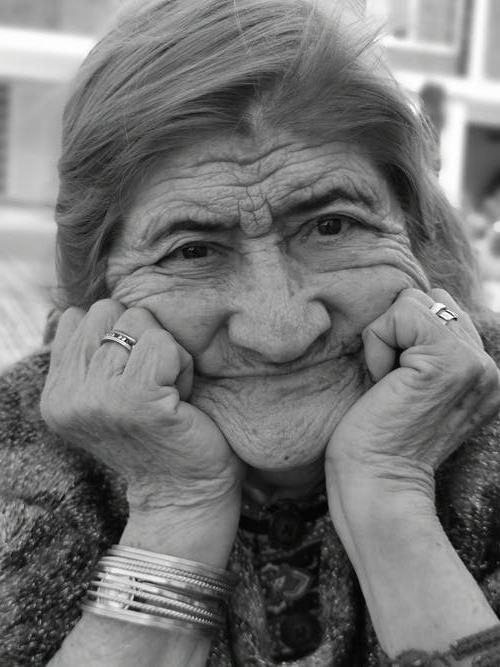Wrinkles: (186, 143, 293, 167), (203, 166, 284, 187), (149, 172, 219, 186), (279, 176, 321, 198), (145, 199, 204, 214), (144, 189, 197, 204), (284, 152, 343, 165), (289, 141, 331, 152), (323, 166, 359, 174), (246, 187, 256, 210), (265, 199, 273, 223), (257, 158, 261, 180), (238, 202, 240, 227)
